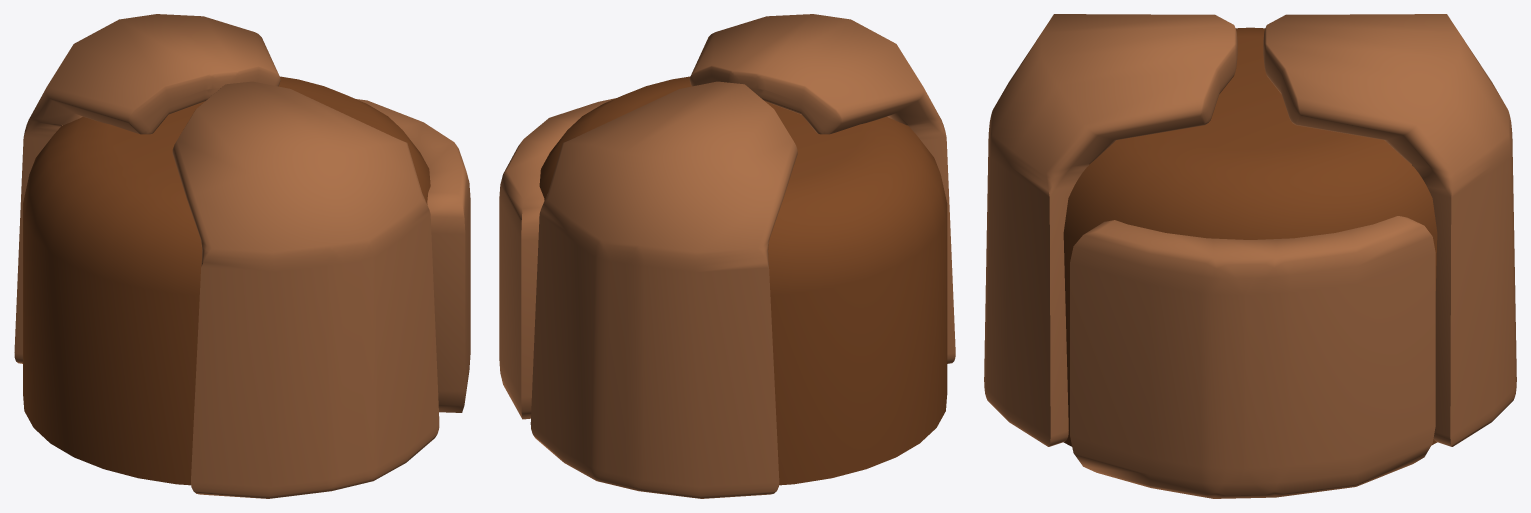
File: Ushanka.fbx
3 renders of one model, left to right at view 1: azimuth 30°, elevation 25°; view 2: azimuth 150°, elevation 25°; view 3: azimuth 270°, elevation 25°, orthographic. The views are drawn at different scales.
Parts seen in each view (by area): view 1: Ushanka; view 2: Ushanka; view 3: Ushanka.
Boxes of the visible parts, <box> form: Ushanka: <box>14,14,470,498</box>; Ushanka: <box>499,14,955,498</box>; Ushanka: <box>984,14,1516,498</box>.
Bounding box in the file's own units: 219 × 172 × 233.
